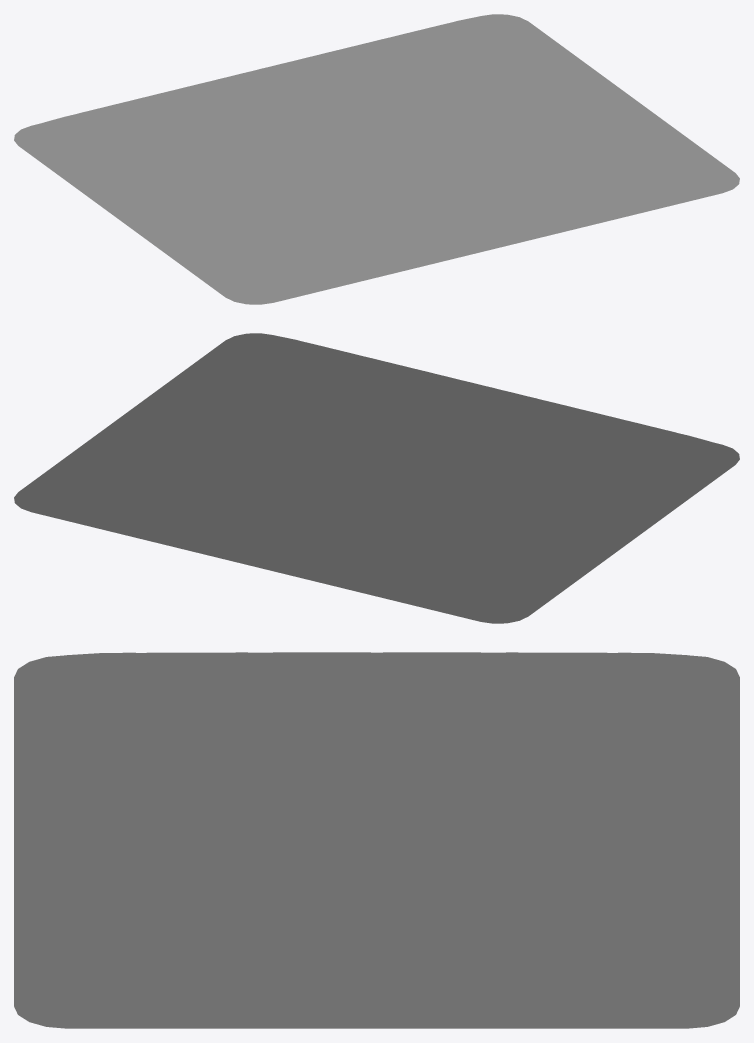
Rendered from surface_texture_refract.obj.
3 renders of one model, top to bottom at view 1: azimuth 30°, elevation 25°; view 2: azimuth 150°, elevation 25°; view 3: azimuth 270°, elevation 25°, orthographic. The views are drawn at different scales.
Parts seen in each view (by area): view 1: surface_texture; view 2: surface_texture; view 3: surface_texture.
Part boxes in pixels (x1,y1,x2,y2): surface_texture: (14,14,739,304); surface_texture: (14,333,739,623); surface_texture: (14,652,739,1028).
Bounding box in the file's own units: 25.25 × 1.25 × 20.75.
1 material, 1 textured.
